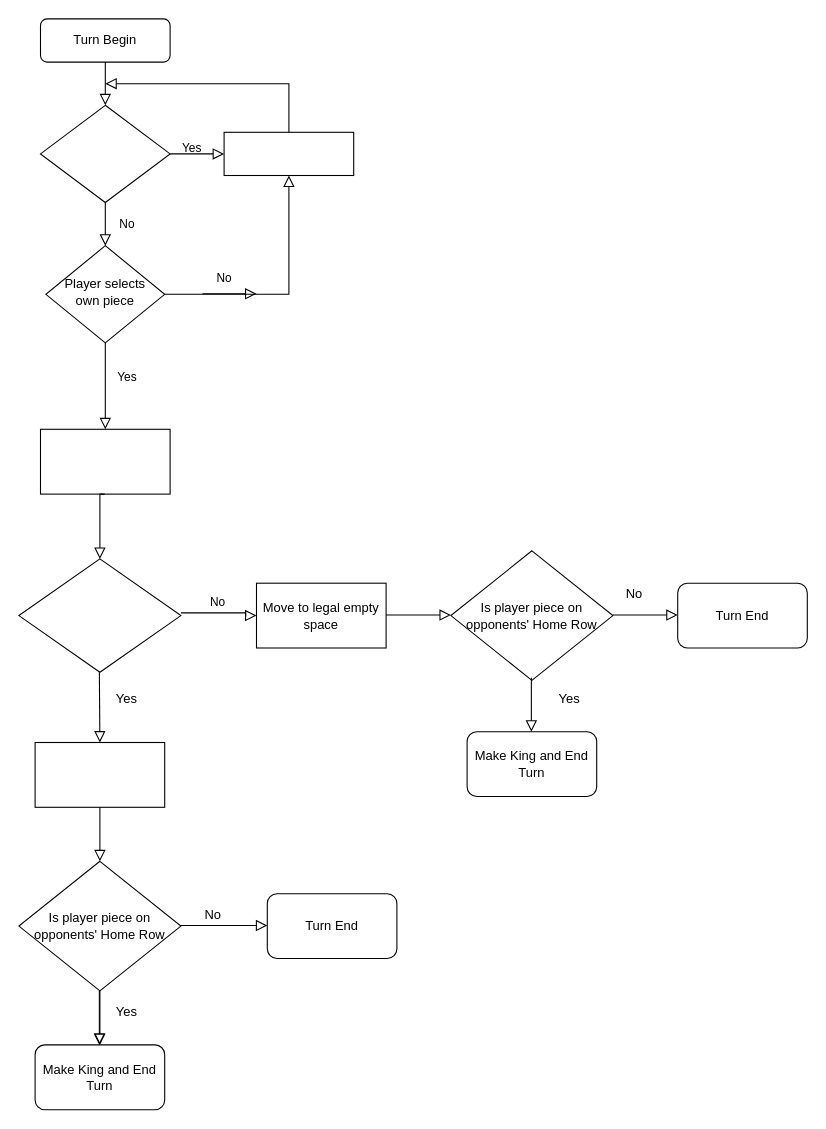
Some shapes in this 826 by 1129 pixel diagram are drawn without their labels. The centre of each missing label's shape, as x and y in pixels:
Player selects empty space: (104,153)
Select again: (288,153)
Select Move: (104,461)
Skip opponent piece and remove it from board: (99,774)
Take Opponent Piece: (99,615)
